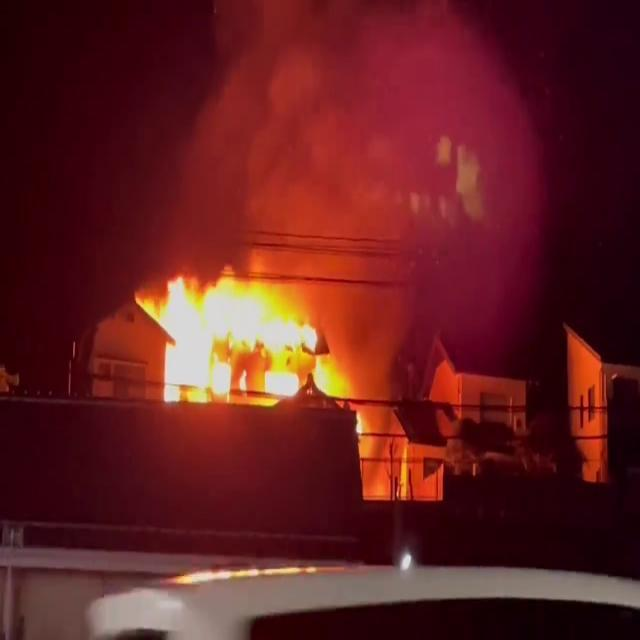Fire: (132, 266, 354, 410)
Smoke: (193, 0, 570, 324)
